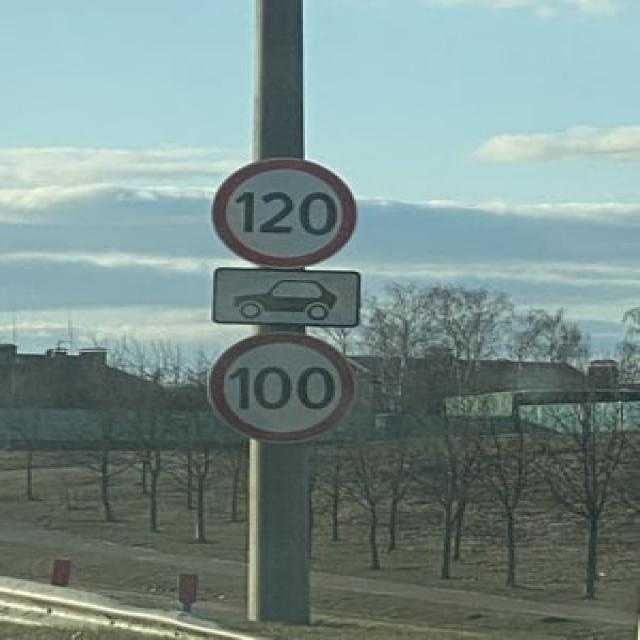Speed Limit -100-: (230, 362, 340, 415)
Speed Limit -120-: (235, 184, 341, 242)
